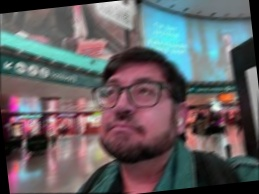earphone: (171, 102, 192, 137)
